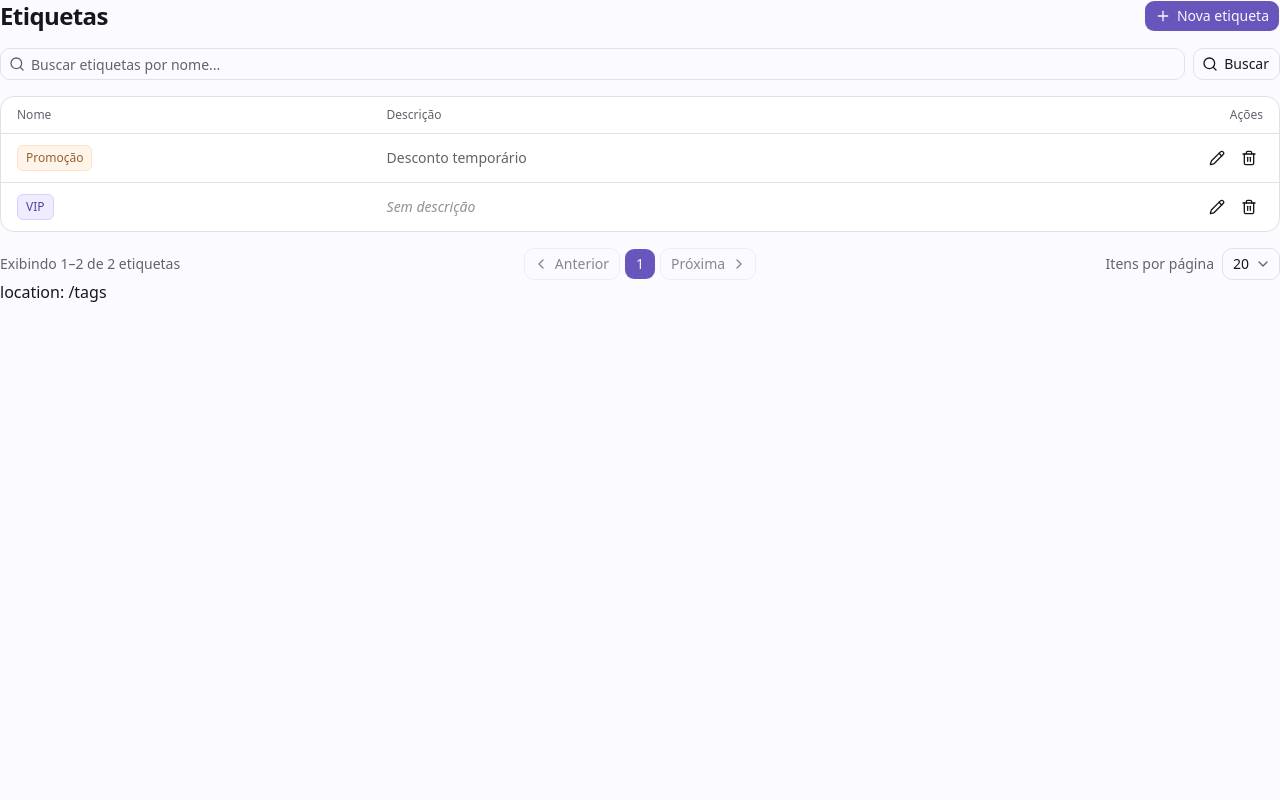
Test: TagDeletePage › shows the backend error verbatim and keeps the tag when delete is blocked (spec FR-012, US4 scenario 2)
Check: the text "Promoção" is shown, box [17,145,92,171]
What coordinates should you click on to do the following:
click the link named "Excluir Promoção"
I would click on:
 (1249, 158)
Its box is [1241,150,1257,166].
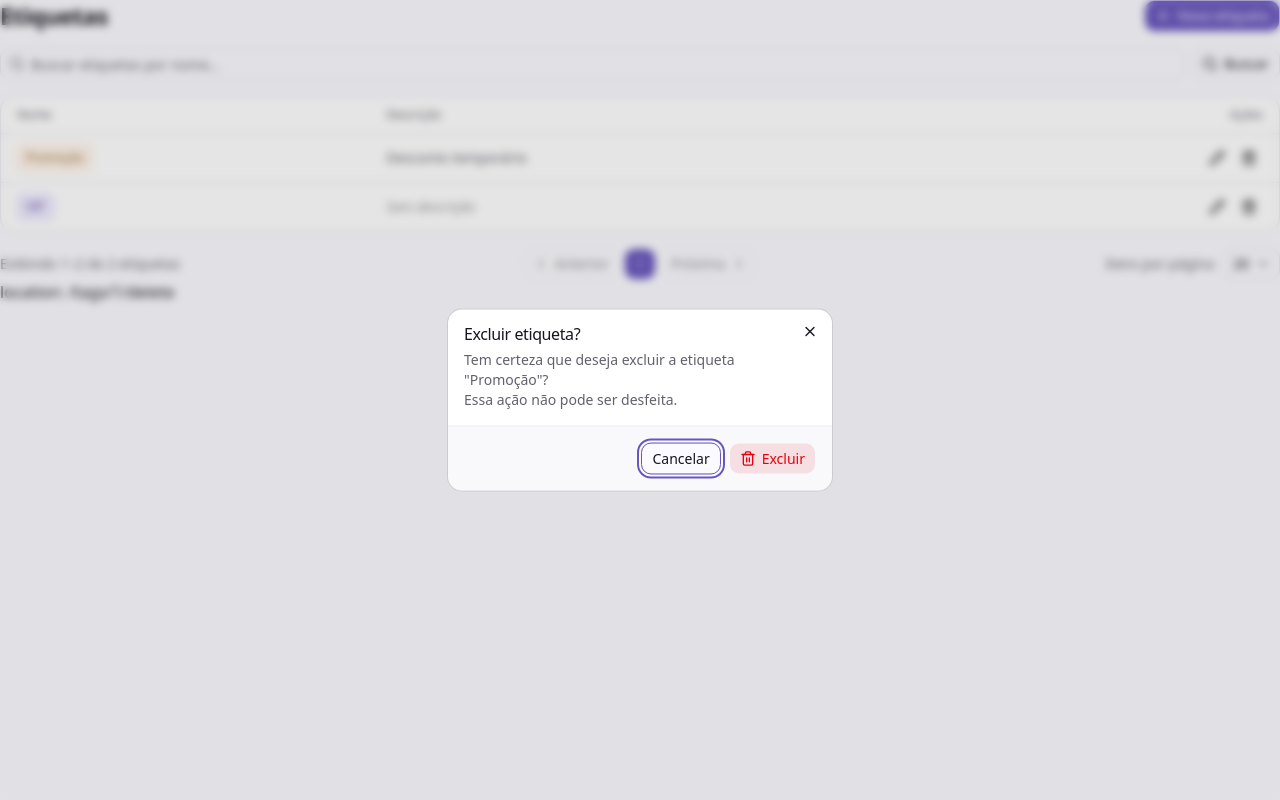
Check: the text "Tem certeza que deseja excluir a etiqueta \"Promoção\"?" is shown, box [464,350,735,388]
What coordinates should you click on to do the following:
click the button "Excluir"
I would click on:
 (772, 458)
Its box is [729,442,816,474].
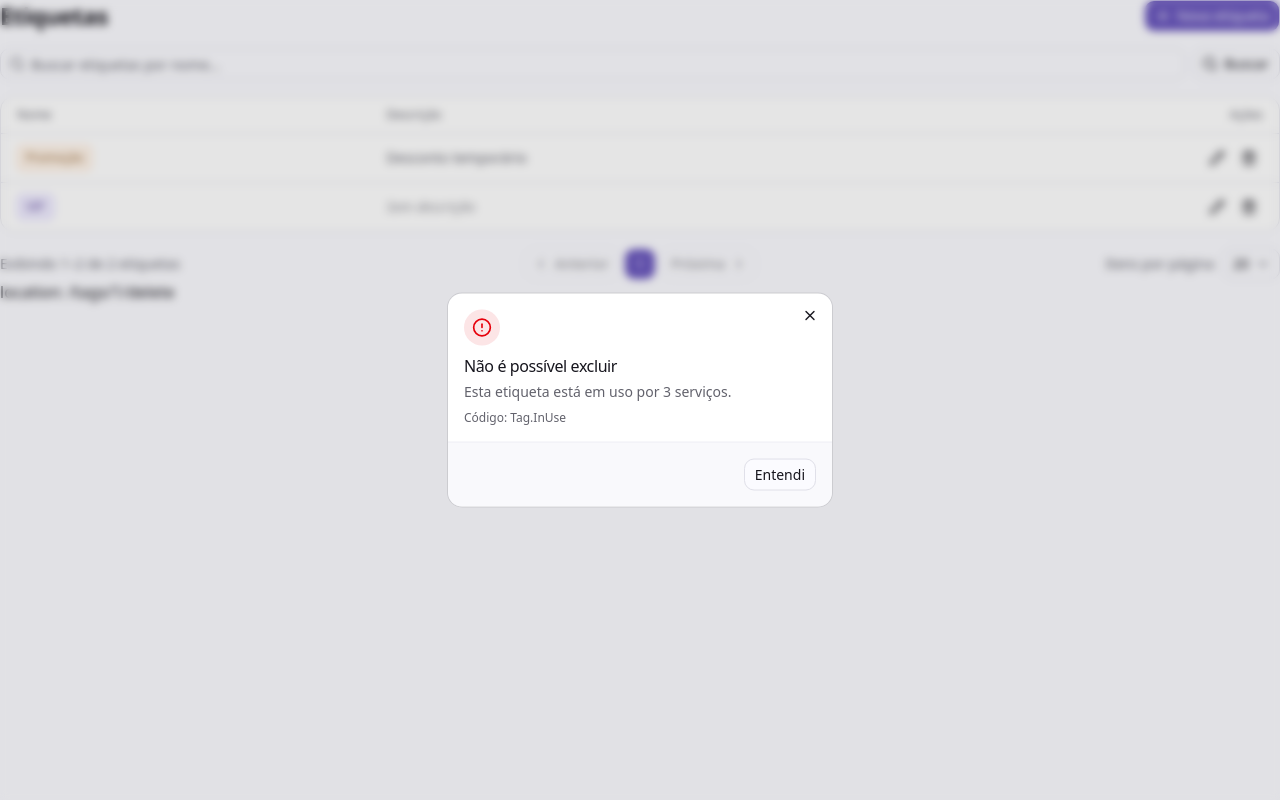
Check: the text "Promoção" is shown, box [17,145,92,171]
Check: the text "Esta etiqueta está em uso por 3 serviços." is shown, box [464,382,732,400]
